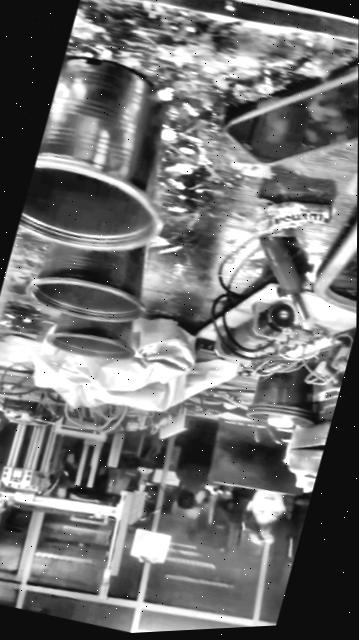pot: (16, 48, 200, 267), (27, 242, 145, 321), (247, 364, 315, 426), (45, 312, 132, 358)
